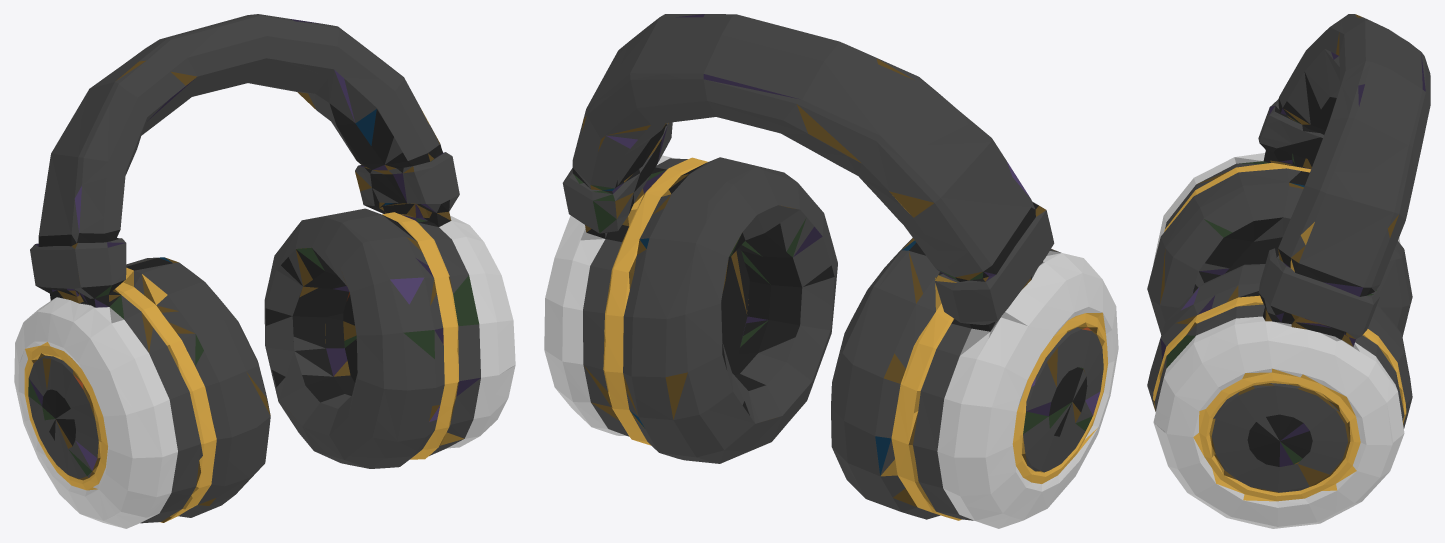
The model's file is milo_headphones.glb.
The picture shows the model from 3 angles, left to right: view 1: azimuth 30°, elevation 25°; view 2: azimuth 150°, elevation 25°; view 3: azimuth 270°, elevation 25°; orthographic projection. The views are drawn at different scales.
Visible parts, largest first — view 1: node_0; view 2: node_0; view 3: node_0.
Part boxes in pixels (bbox=[...]): node_0: bbox=[14, 14, 515, 528]; node_0: bbox=[544, 14, 1118, 528]; node_0: bbox=[1147, 14, 1430, 528].
Size of the model in its own units: 1 by 0.9752 by 0.6048.
